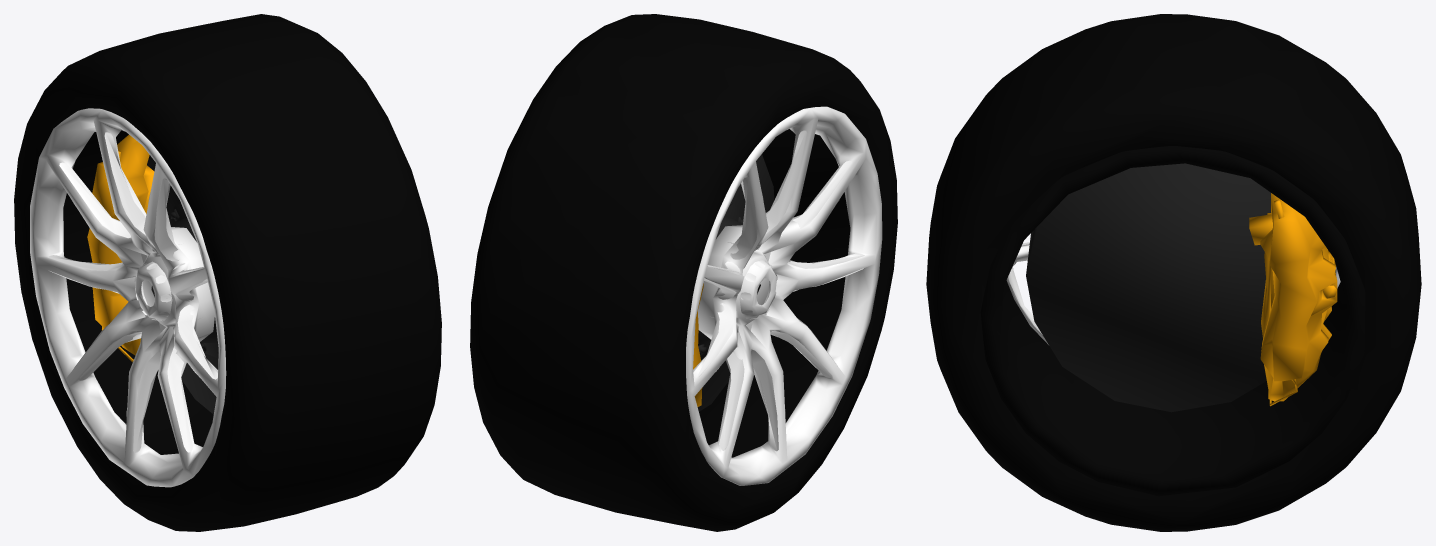
Rendered from mclaren_senna_wheel.obj.
3 views of the same model, side by side, from view 1: azimuth 30°, elevation 25°; view 2: azimuth 150°, elevation 25°; view 3: azimuth 270°, elevation 25° (orthographic).
Visible parts, largest first — view 1: mclaren_senna_wheel_Torus.013; view 2: mclaren_senna_wheel_Torus.013; view 3: mclaren_senna_wheel_Torus.013.
Part boxes in pixels (x1,y1,x2,y2): mclaren_senna_wheel_Torus.013: (14,14,441,531); mclaren_senna_wheel_Torus.013: (470,14,897,531); mclaren_senna_wheel_Torus.013: (926,14,1421,531).
Size of the model in its own units: 0.3264 by 0.6828 by 0.6828.
